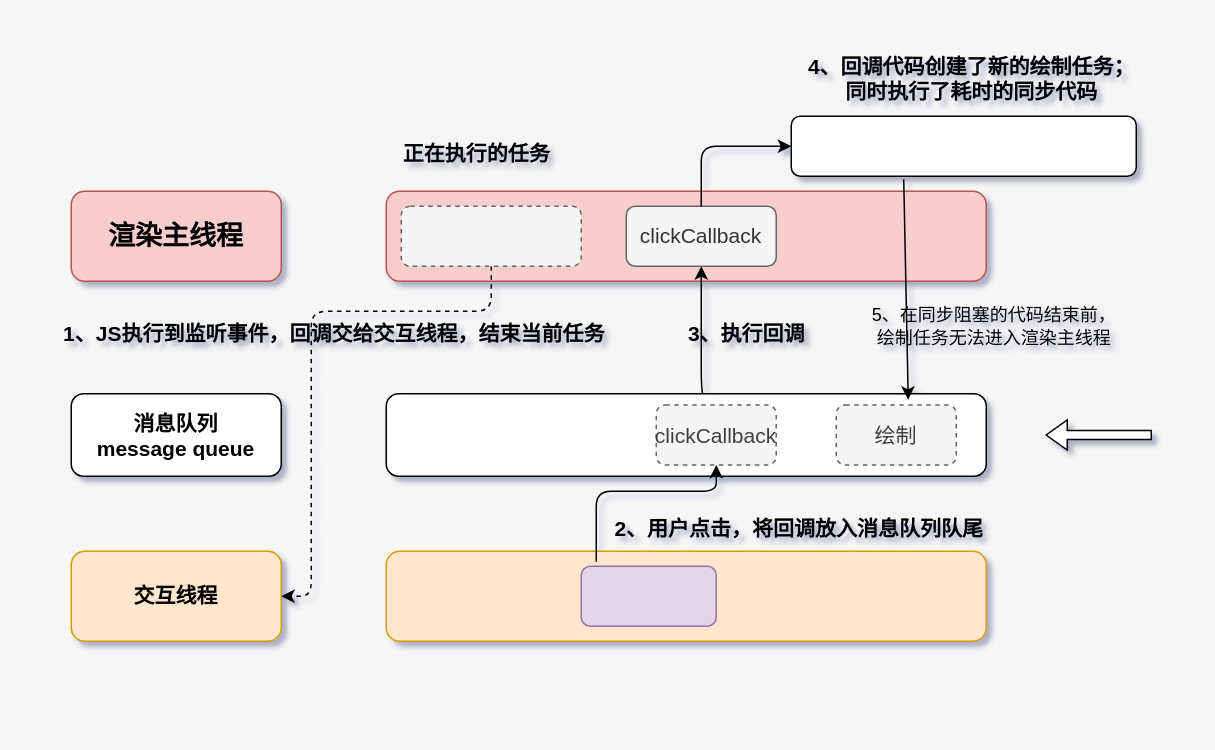
Image size: 1215x750. Some labels were removed from this diagram. The shapes that lost their labels are listed below. From the top down, each one's centre as x and y in pixels, then its label:
the point at 963,145: textContent="changed" while(n ms){...}
the point at 490,235: addEventListener
the point at 648,595: 监听点击 clickCallback
